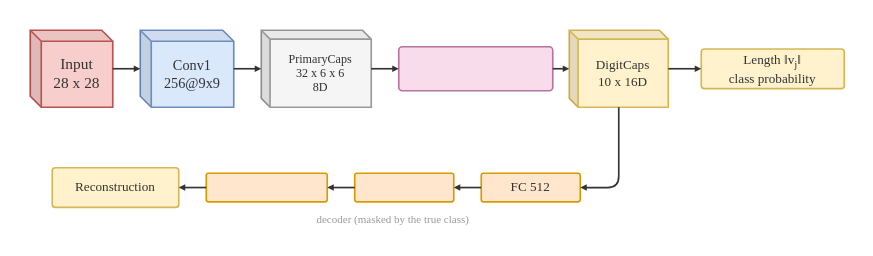
The diagram is 873 pixels wide and 256 high, and some of its shapes have lost their labels. Here are the shapes that lost their labels. From the top down, the centre of each, then its label:
At point 475,68: "Dynamic routing (by agreement, r = 3)".
At point 266,187: "FC 784, sigmoid".
At point 403,187: "FC 1024".
